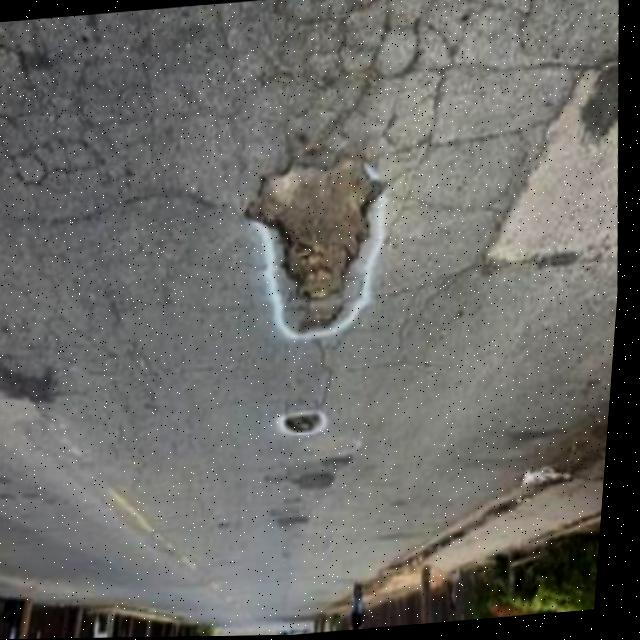Pothole: (240, 141, 420, 354), (261, 387, 340, 450)
